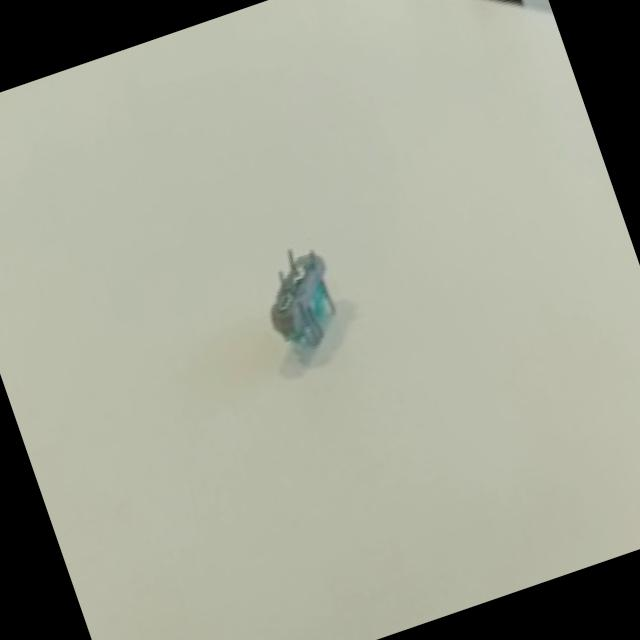5_NanoBug_GrisClaro: (230, 213, 378, 399)
